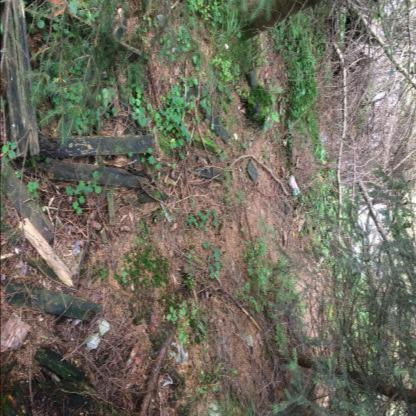Can: (286, 173, 299, 195)
Unlabeled litter: (158, 199, 172, 222)
